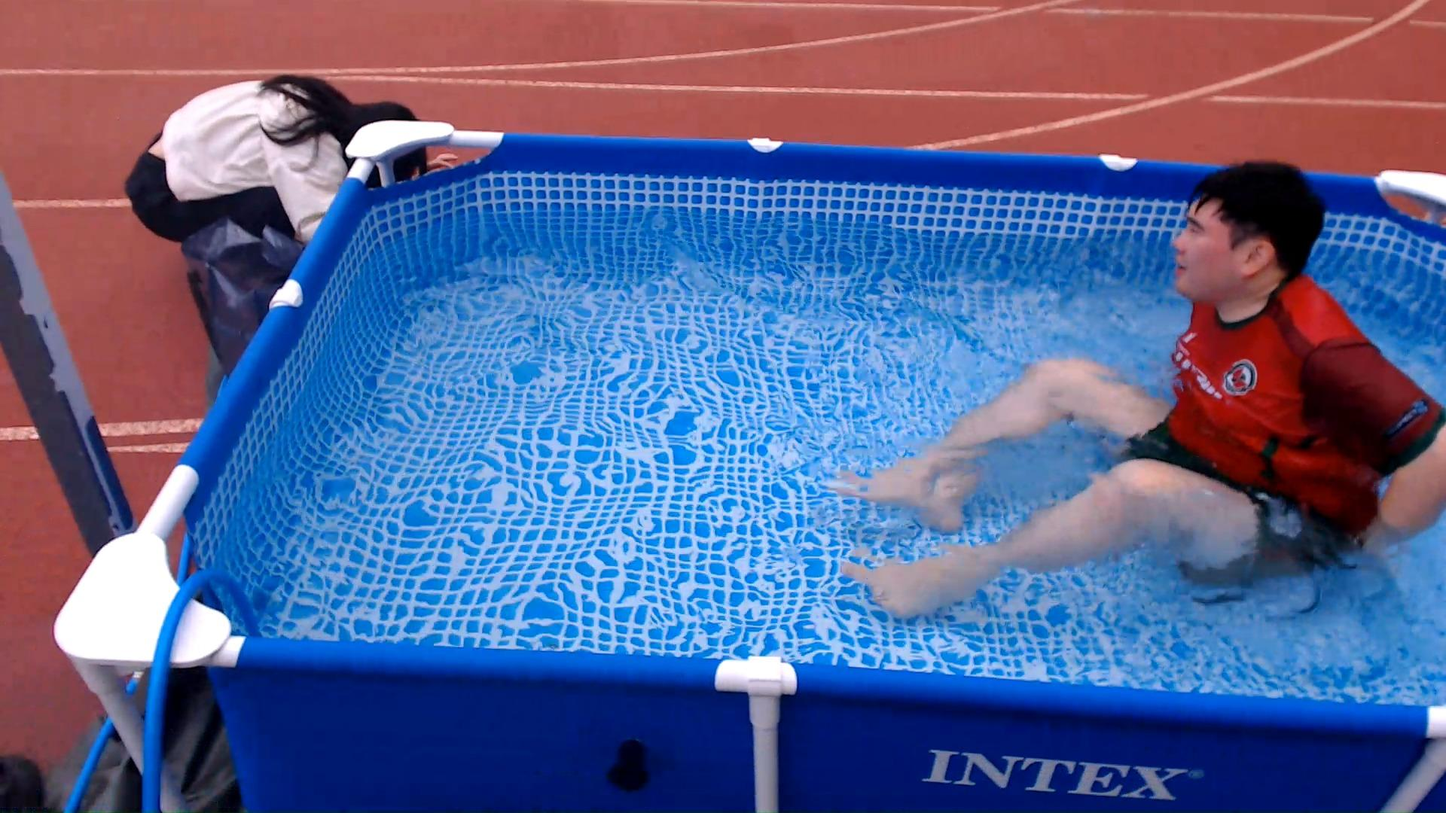Swimming: (660, 163, 1446, 604)
